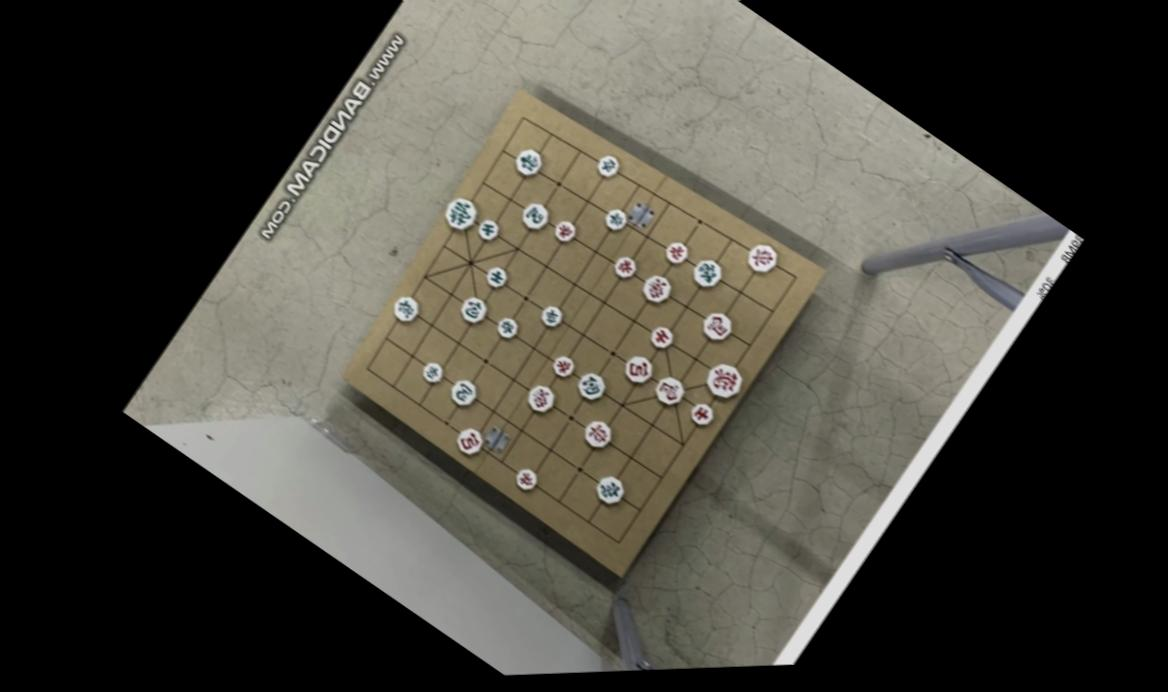cha_green: (589, 469, 629, 509), (386, 288, 425, 327)
cha_red: (740, 236, 782, 278), (577, 415, 616, 453)
jol_green: (591, 150, 622, 181), (599, 203, 629, 233), (491, 312, 521, 341), (536, 301, 565, 330), (417, 358, 445, 386)
jol_red: (608, 249, 640, 282), (659, 236, 691, 268), (549, 215, 580, 246), (510, 463, 540, 494), (546, 350, 577, 380)
ma_green: (444, 373, 481, 410), (516, 197, 553, 234)
ma_red: (695, 304, 737, 346), (647, 368, 688, 410)
po_green: (570, 366, 609, 405), (454, 290, 490, 326)
po_red: (617, 348, 658, 389), (449, 421, 487, 460)
sa_green: (473, 214, 502, 244), (480, 262, 509, 291)
sa_red: (684, 396, 718, 430), (644, 321, 677, 353)
sang_green: (685, 251, 726, 293), (508, 142, 546, 180)
sang_red: (635, 267, 675, 308), (520, 379, 559, 417)
wang_green: (437, 191, 483, 236)
wang_red: (697, 356, 746, 405)
